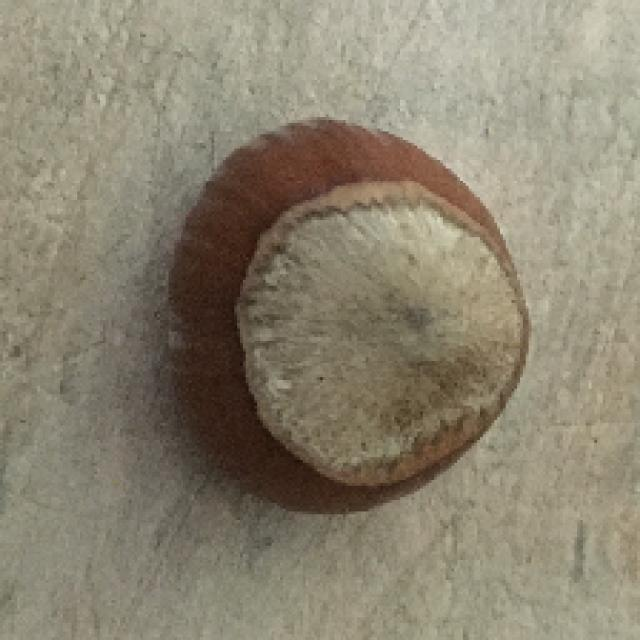QualityHazelnut: (158, 116, 532, 520)
